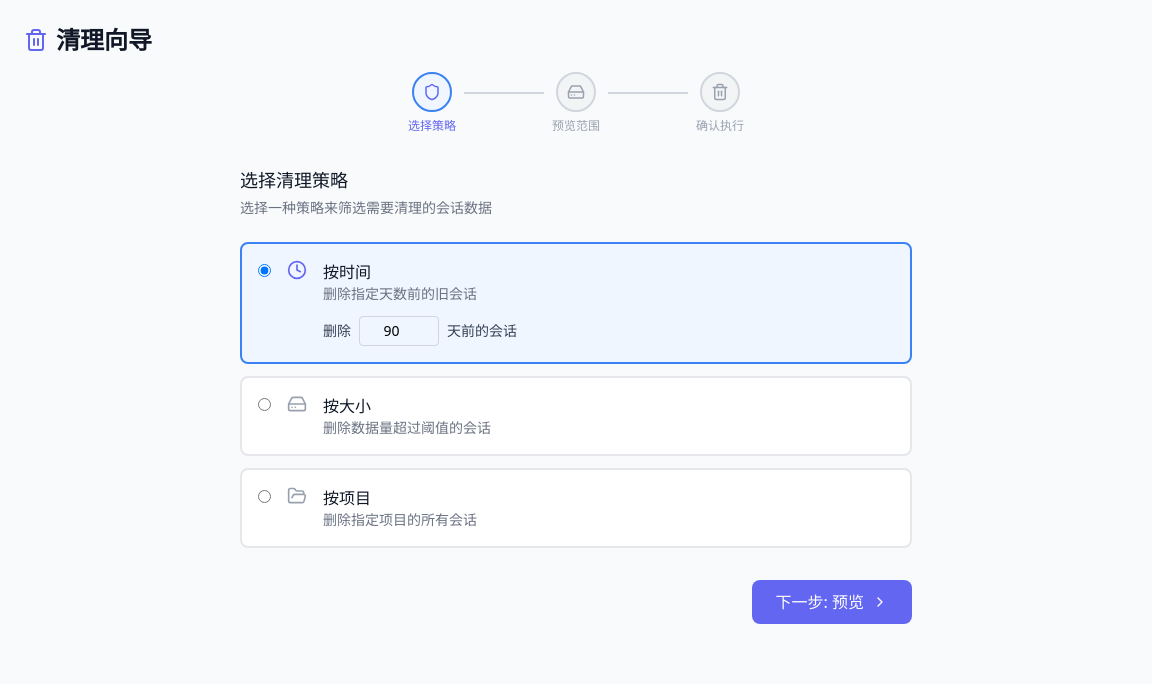
Test: Cleanup 预览的子会话锁定与父子联动（P2-2） › 「全不选」只作用于根行，但汇总会扣掉根的子树
Click the button "下一步: 预览" at (832, 602), box [752, 580, 912, 624]
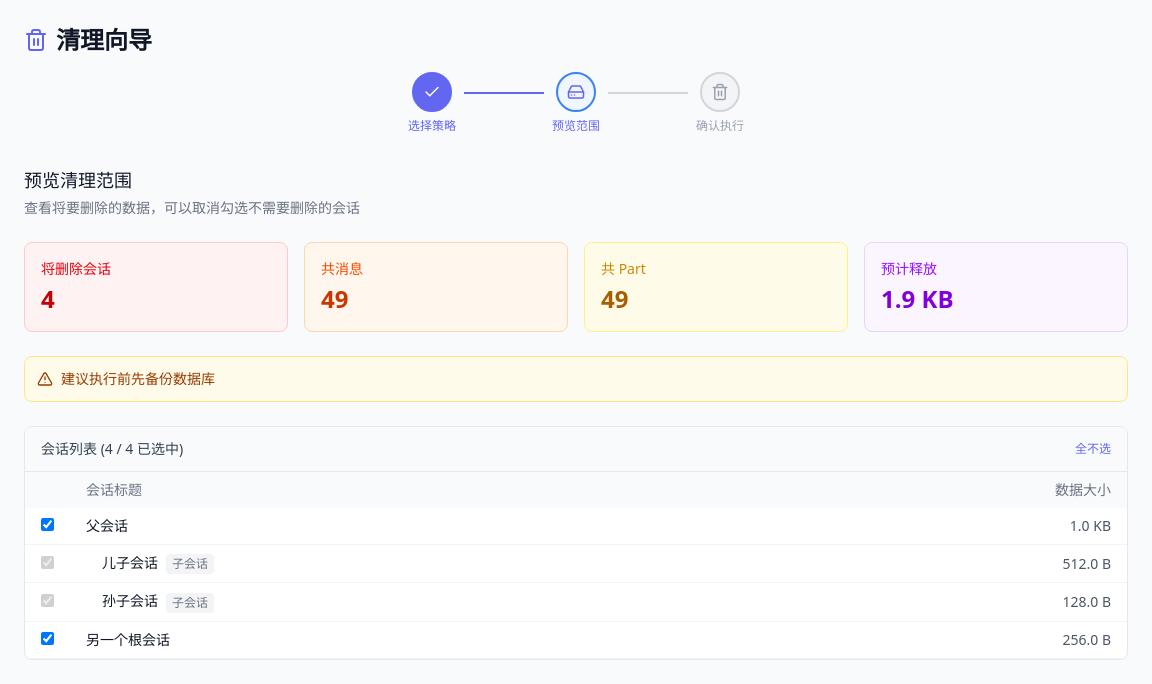
Check: the heading "预览清理范围" is shown, box [24, 168, 132, 192]
Click the button "全不选" at (1093, 449), box [1075, 441, 1111, 457]
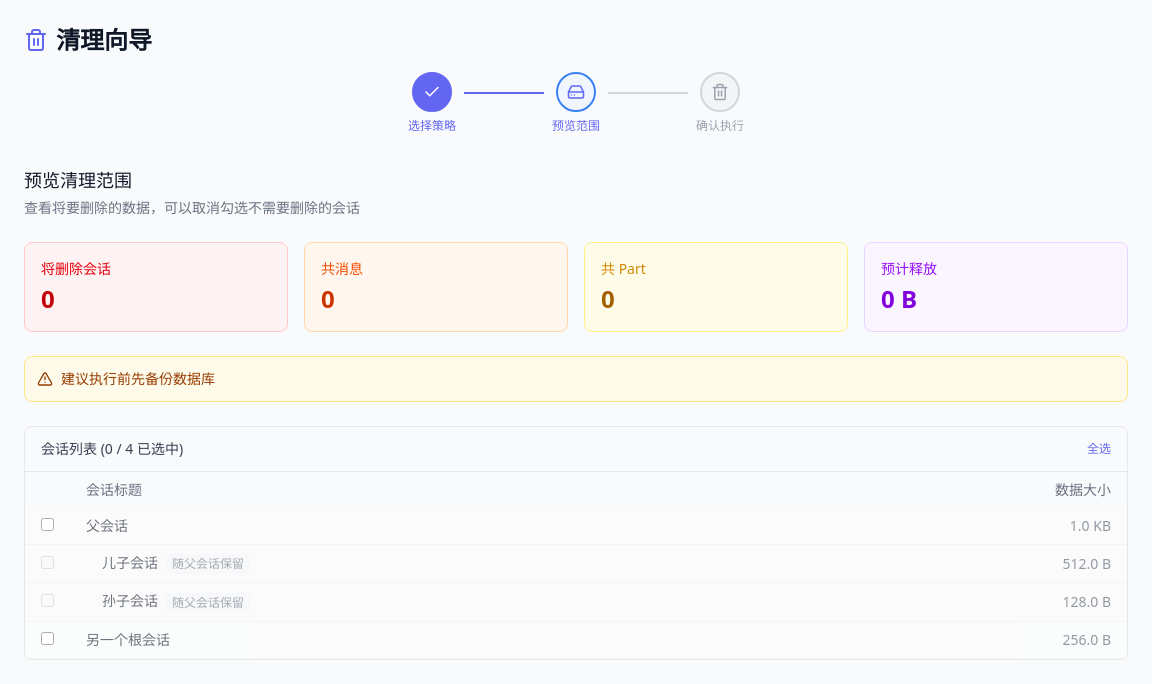
Check: the checkbox named "随父会话一起保留" is disabled, box [41, 556, 54, 569]
Check: the checkbox named "随父会话一起保留" is not checked, box [41, 556, 54, 569]
